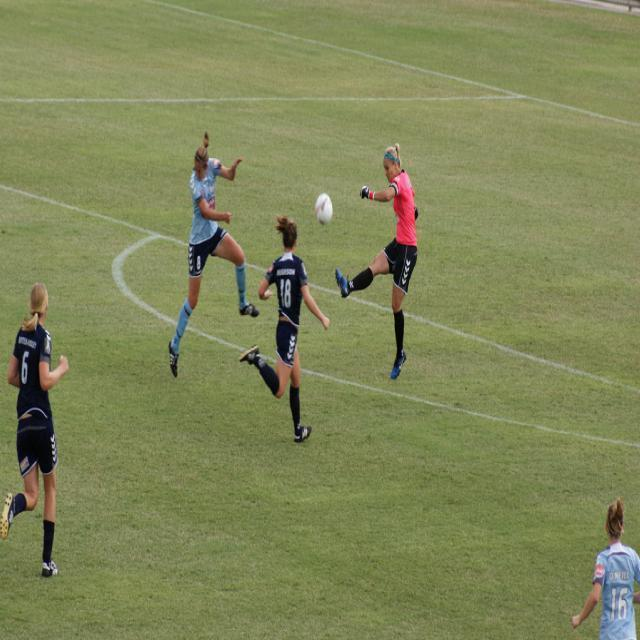football: (305, 187, 344, 238)
